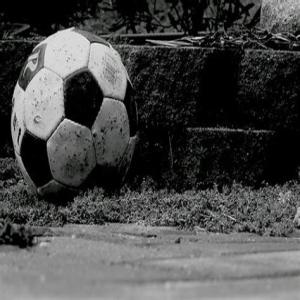Football: (10, 26, 134, 209)
